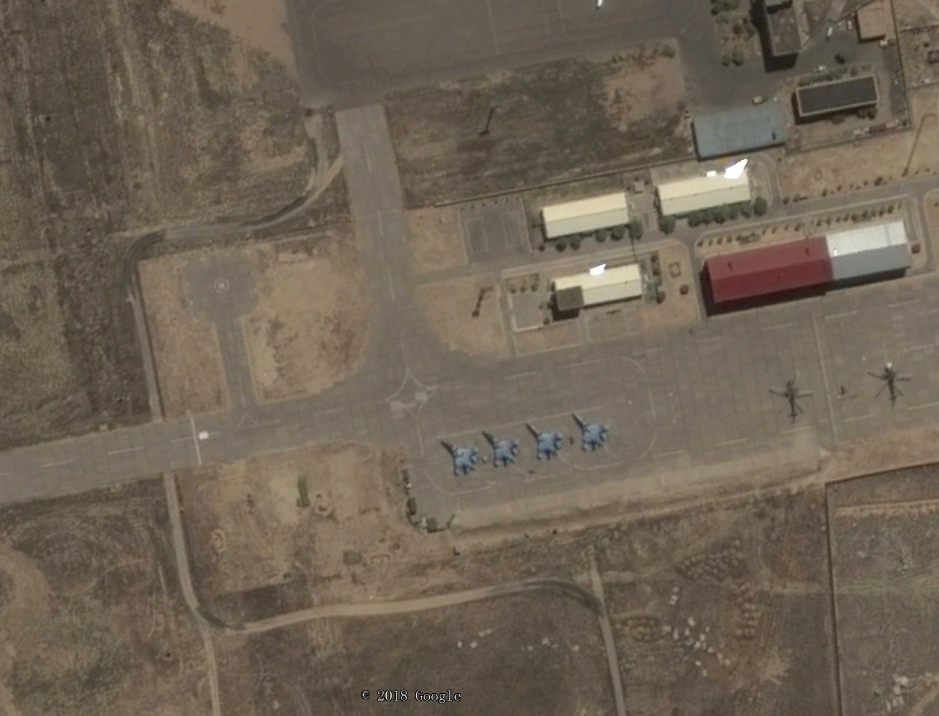A1: (569, 410, 617, 451), (524, 419, 565, 462), (436, 436, 480, 476), (480, 429, 523, 467)
